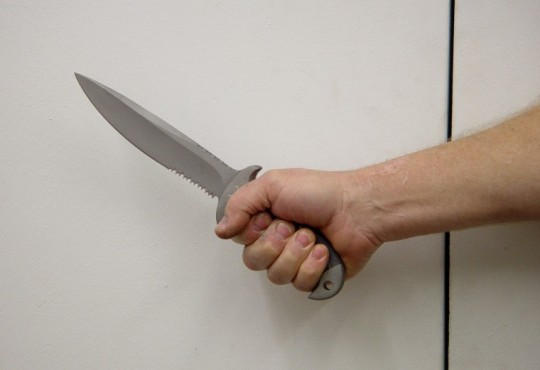knife: (73, 65, 296, 291)
